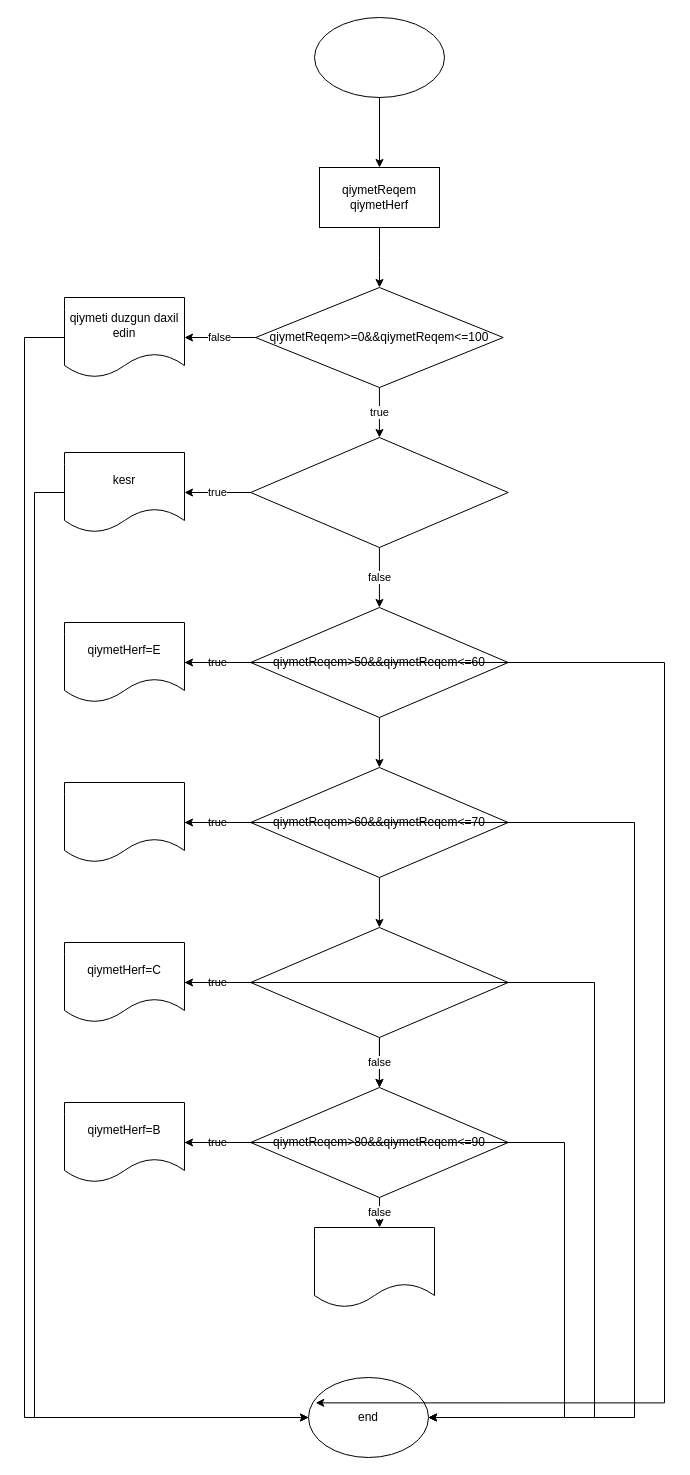
Some shapes in this 690 by 1475 pixel diagram are drawn without their labels. Each missing label, with the box of its shape:
qiymetHerf=A: (314, 1226, 434, 1308)
qiymetHerf=D: (64, 782, 184, 862)
qiymetReqem>70&&qiymetReqem<=80: (250, 926, 508, 1038)
qiymetReqem>=0&&qiymetReqem<=50: (250, 436, 508, 548)
start: (314, 16, 444, 98)
